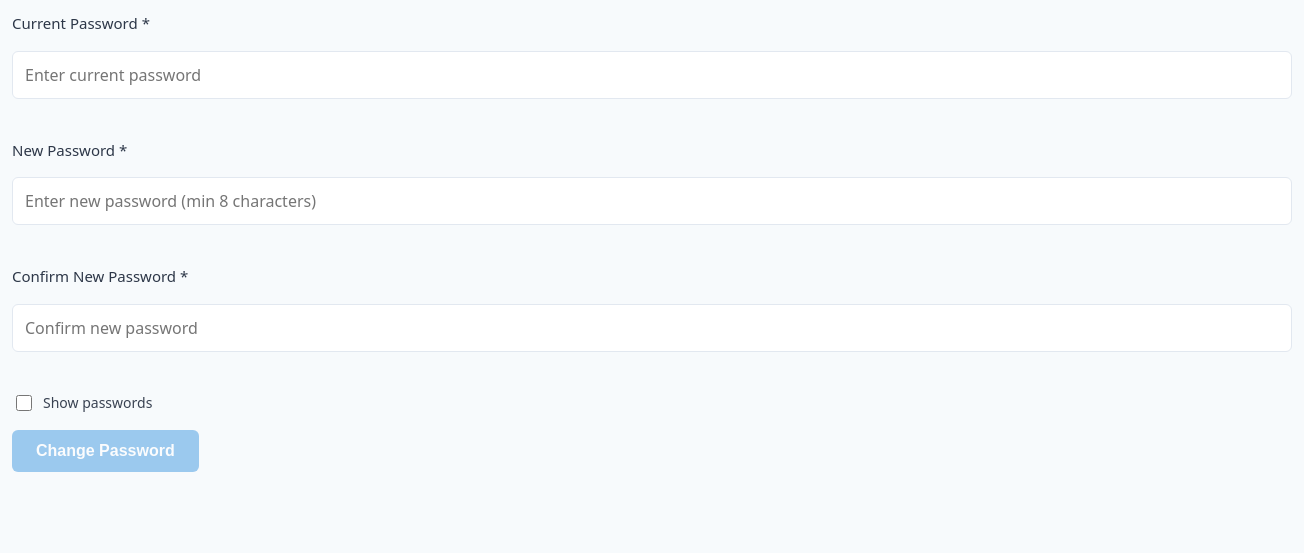
Test case: PasswordChangeForm Component › should show error when new password is too short
Type "old123456" into the password field labelled "Current Password *" at (652, 74), box x1=12 y1=50 x2=1292 y2=98
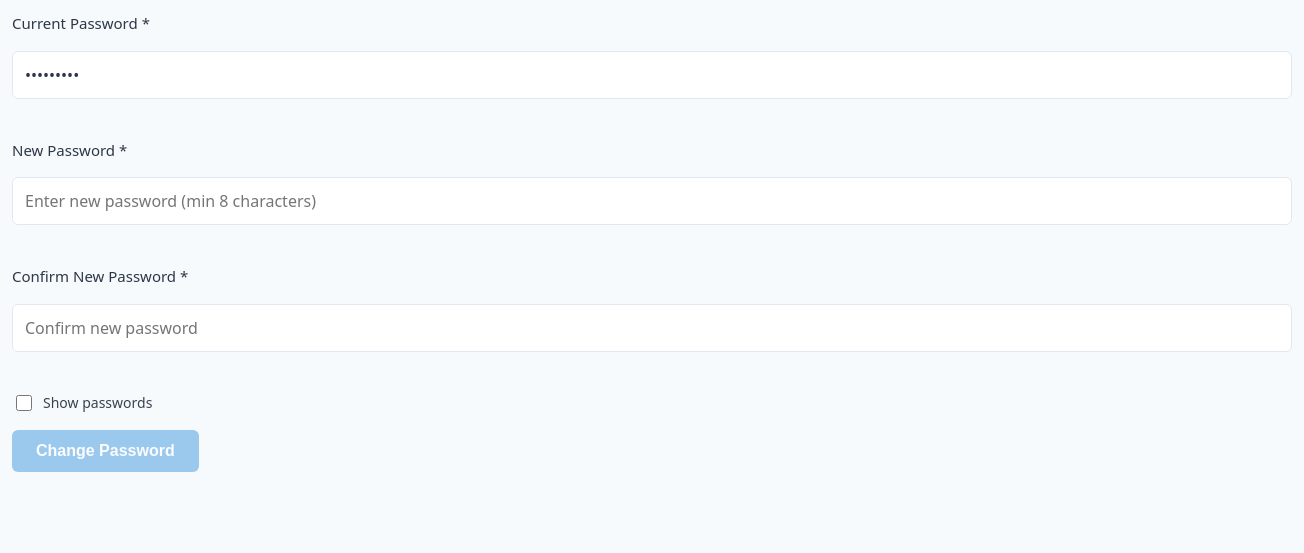
Type "short" into the password field labelled "New Password *" at (652, 201), box x1=12 y1=177 x2=1292 y2=225
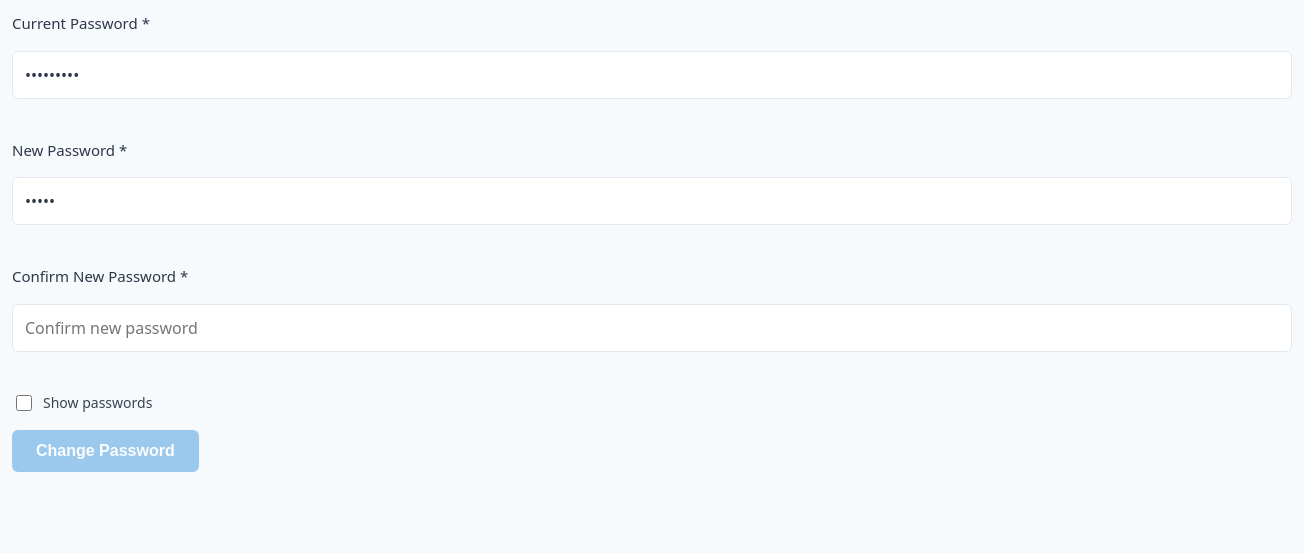
Type "short" into the password field labelled "Confirm New Password *" at (652, 328), box x1=12 y1=304 x2=1292 y2=352
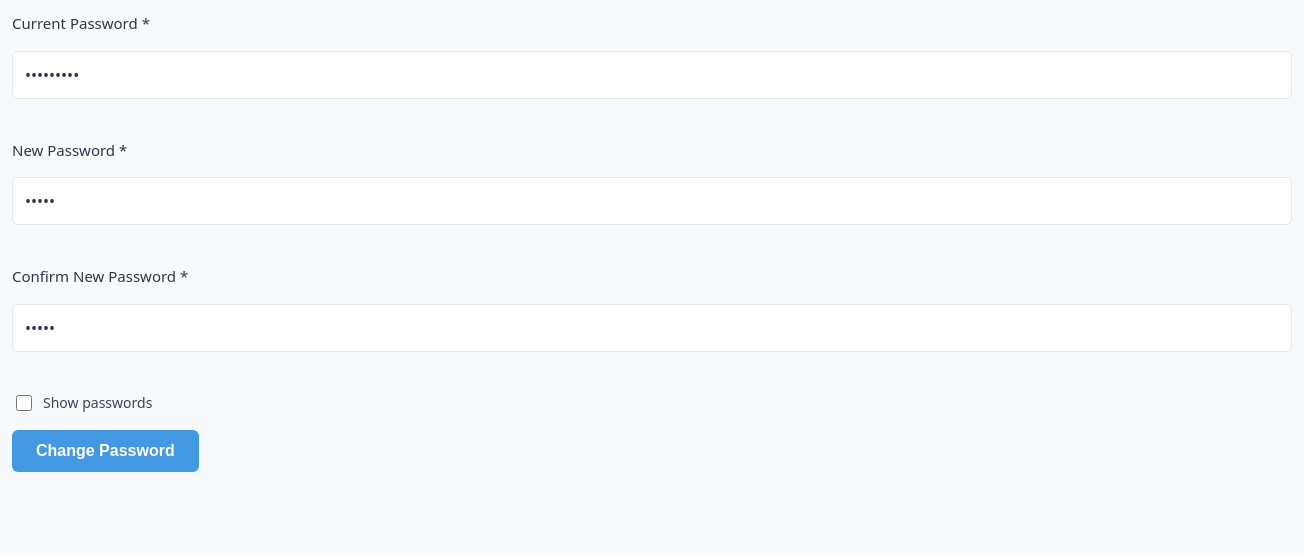
Click the button "Change Password" at (105, 450), box x1=12 y1=430 x2=199 y2=472
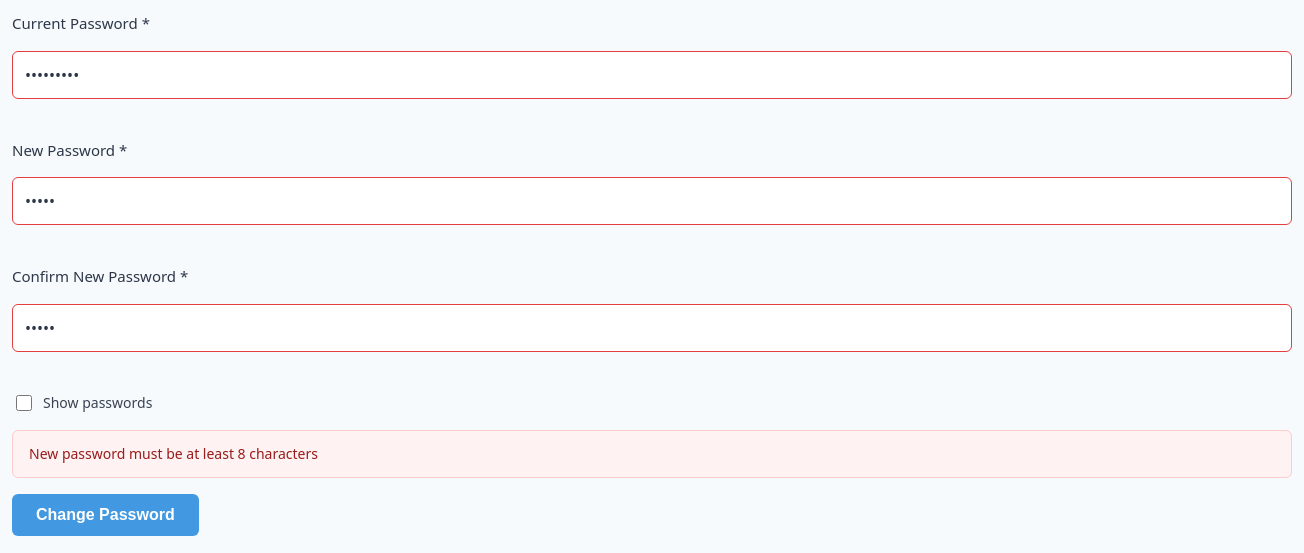
Expected: the message reads "New password must be at least 8 characters", x1=29 y1=444 x2=318 y2=462
